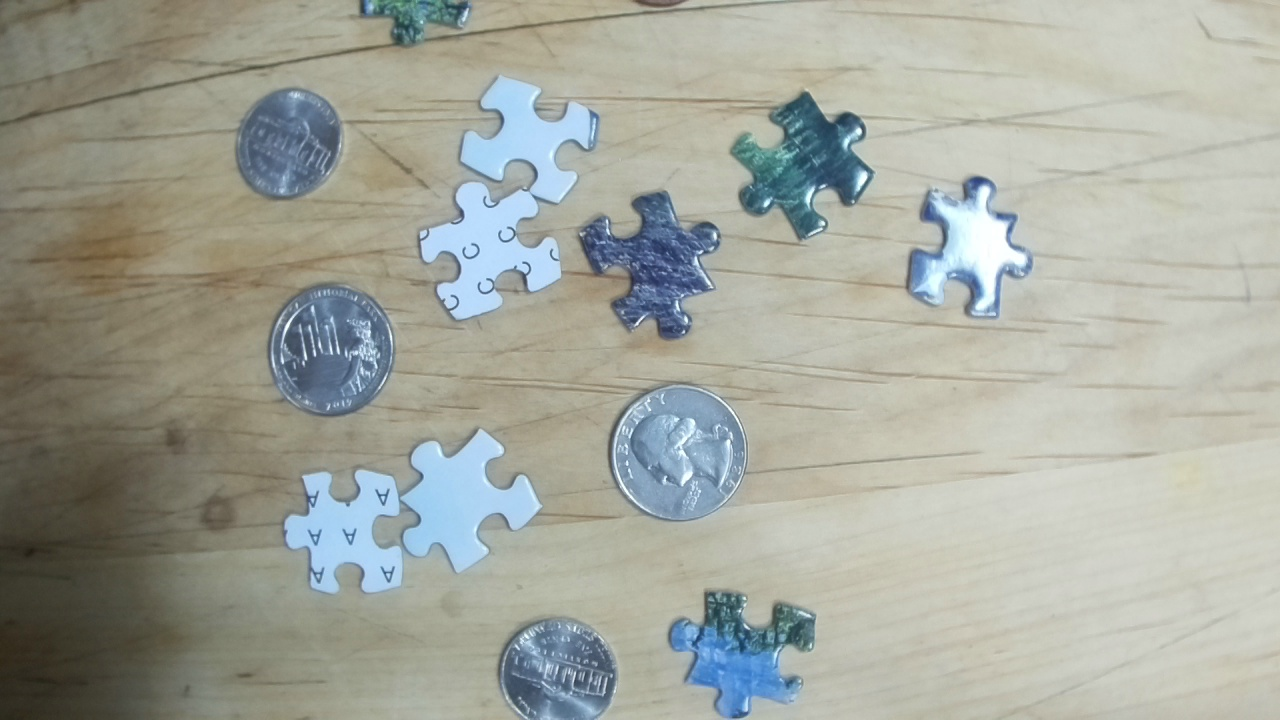nickel: (233, 86, 343, 200), (500, 617, 621, 720)
quarter: (610, 382, 747, 522), (267, 280, 395, 418)
